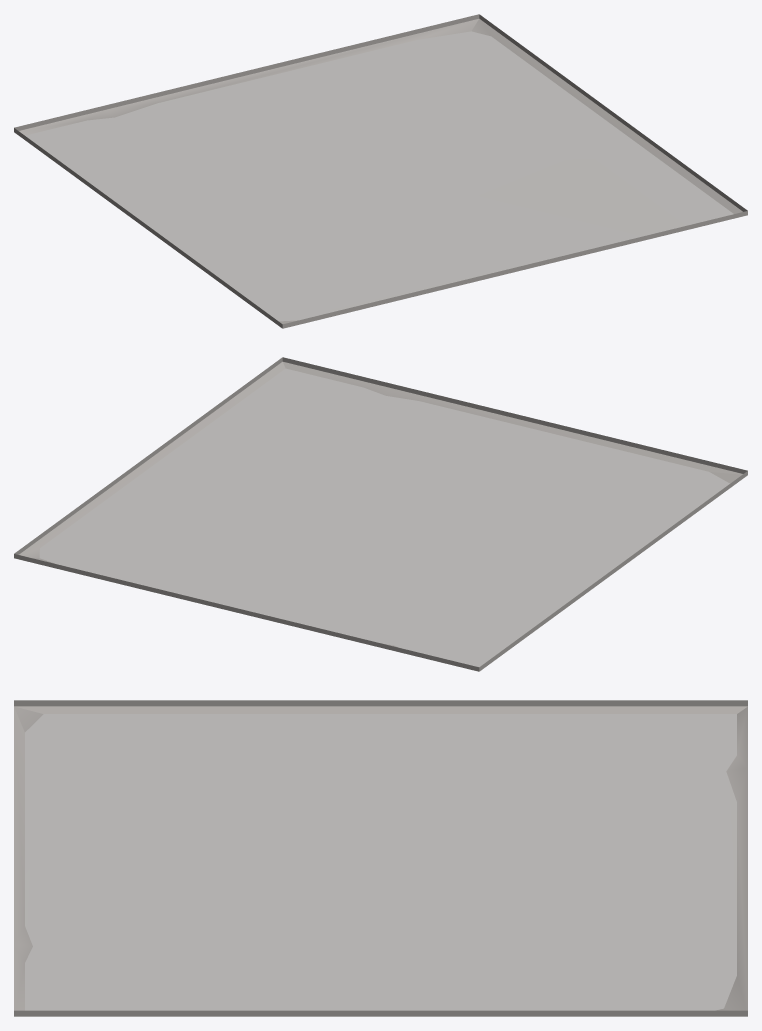
File: SM_Bld_Ceiling_01.glb
3 views of the same model, one above another, from view 1: azimuth 30°, elevation 25°; view 2: azimuth 150°, elevation 25°; view 3: azimuth 270°, elevation 25° (orthographic). The views are drawn at different scales.
Parts seen in each view (by area): view 1: SM_Bld_Ceiling_01; view 2: SM_Bld_Ceiling_01; view 3: SM_Bld_Ceiling_01.
Boxes of the visible parts, x1,y1,x2,y2 form: SM_Bld_Ceiling_01: (14,14,747,328); SM_Bld_Ceiling_01: (14,357,747,671); SM_Bld_Ceiling_01: (14,700,747,1016).
Size of the model in its own units: 2.5 by 0.0345 by 2.5.
1 material, 1 textured.
